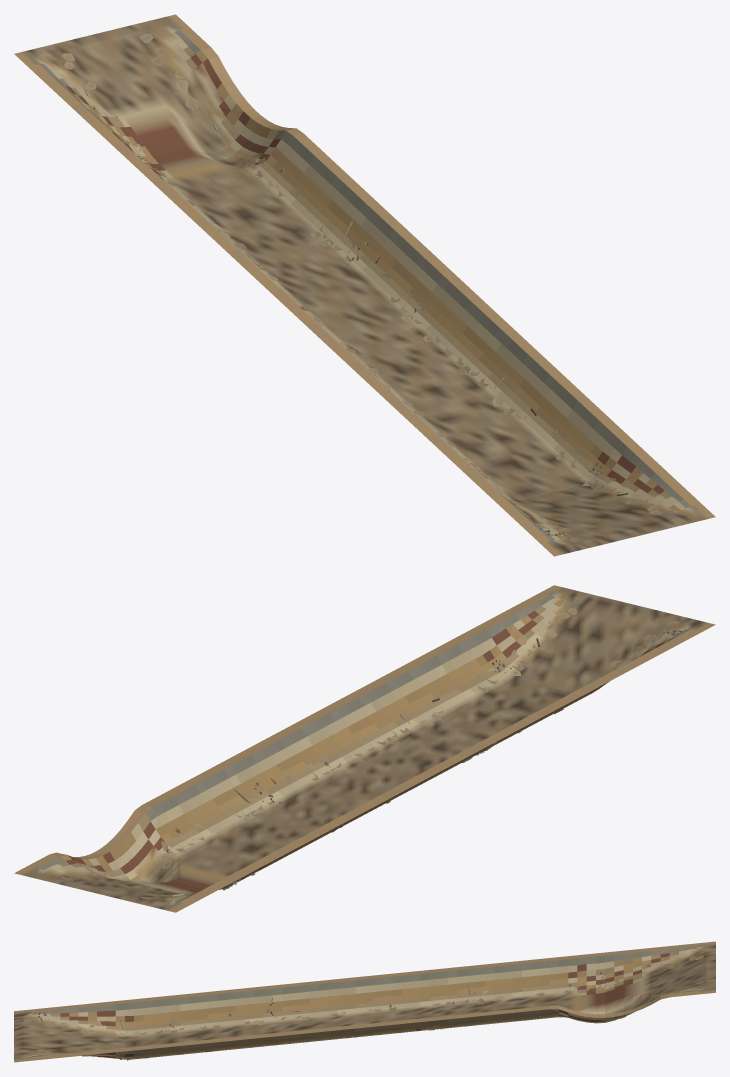
Rendered from liner_meander.glb.
The picture shows the model from 3 angles, top to bottom: view 1: azimuth 30°, elevation 25°; view 2: azimuth 150°, elevation 25°; view 3: azimuth 270°, elevation 25°; orthographic projection. The views are drawn at different scales.
Parts seen in each view (by area): view 1: liner_meander_body; view 2: liner_meander_body; view 3: liner_meander_body.
Boxes of the visible parts, x1,y1,x2,y2 form: liner_meander_body: (14, 14, 715, 556); liner_meander_body: (14, 585, 715, 912); liner_meander_body: (14, 941, 715, 1062).
Bounding box in the file's own units: 46 × 34.27 × 266.
